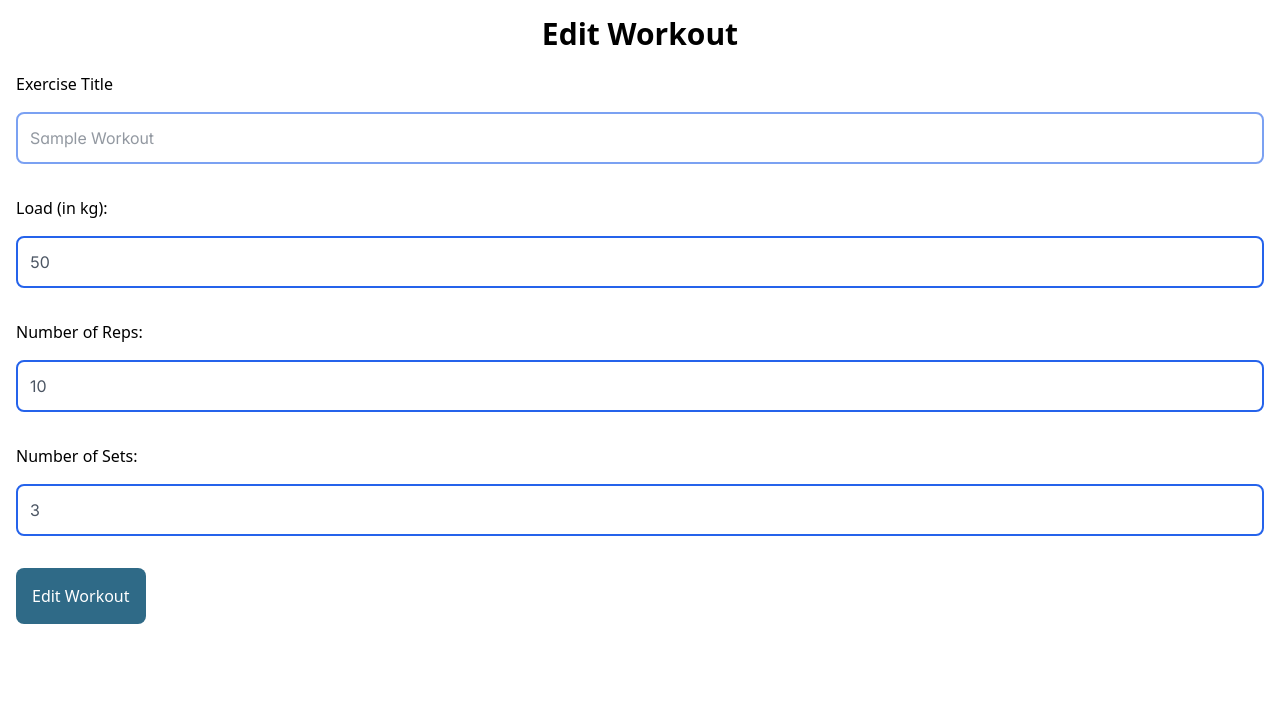
Scenario: EditWorkout Component › should show an error message when not logged in
The image size is (1280, 720).
Replace the text in the 1st number field named "load" with "60" at (640, 262), box [16,236,1264,288]
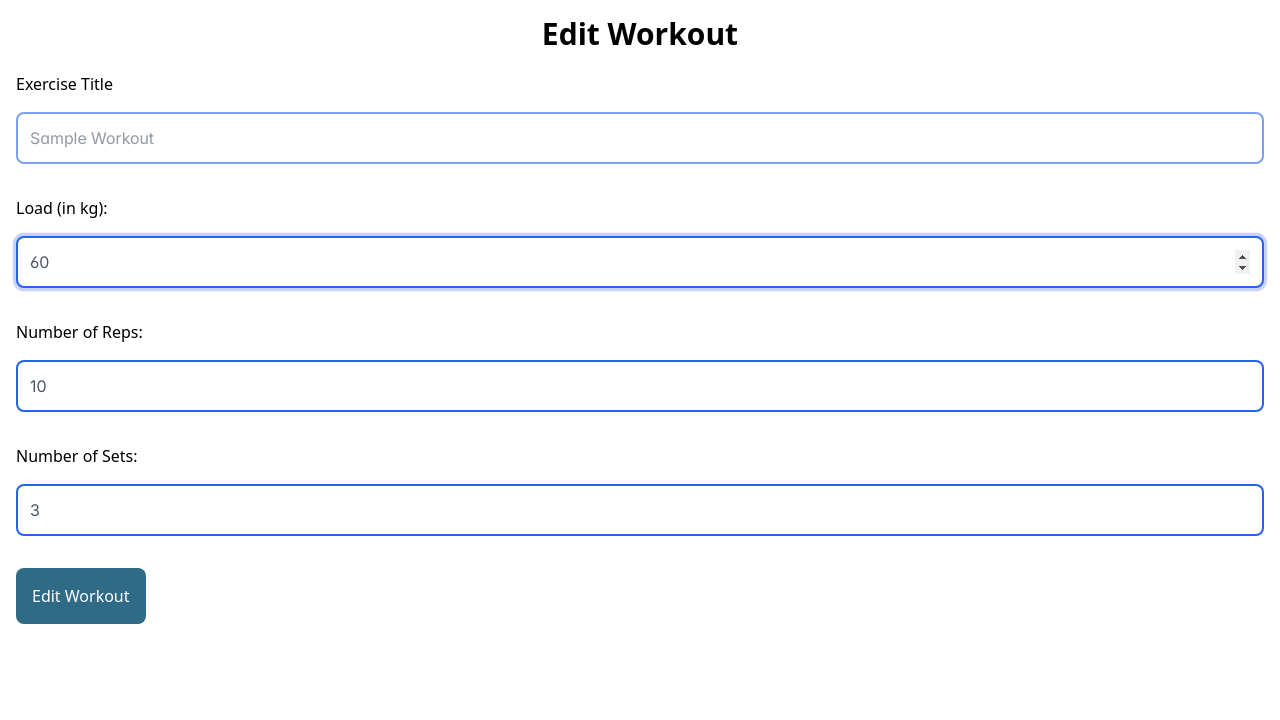
Replace the text in the 2nd number field named "reps" with "12" at (640, 386), box [16,360,1264,412]
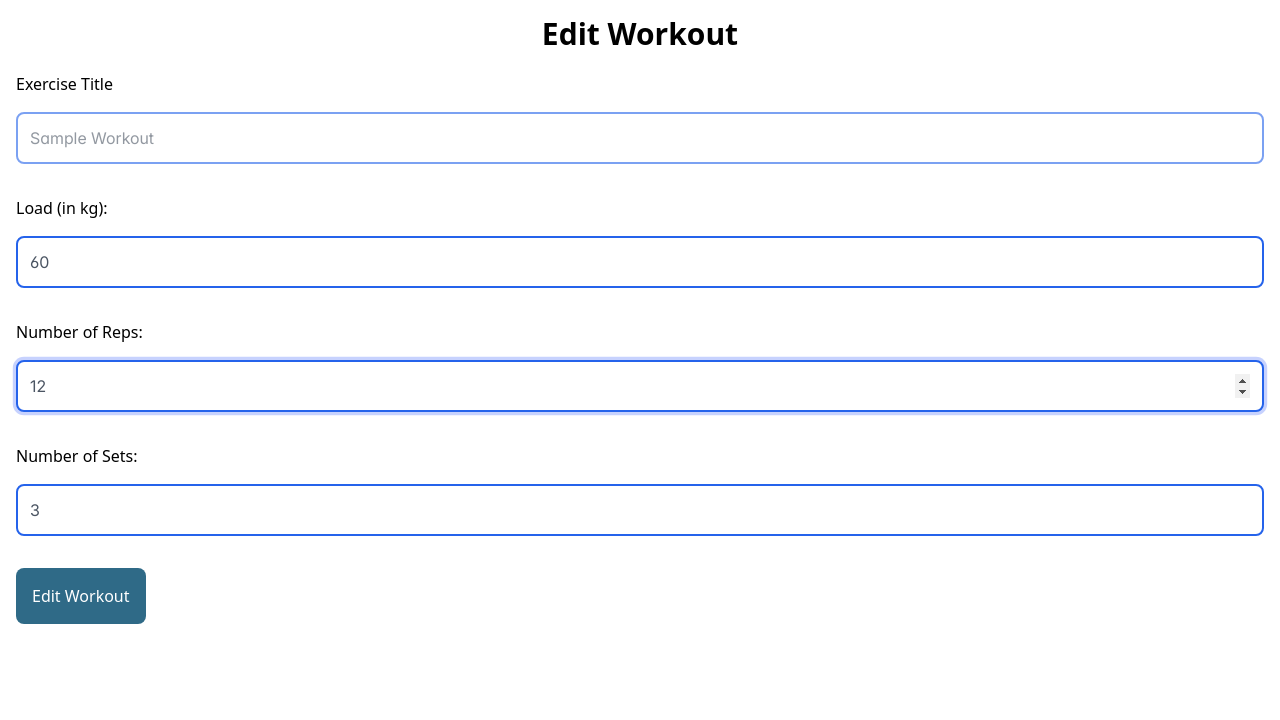
Replace the text in the 3rd number field named "sets" with "4" at (640, 510), box [16,484,1264,536]
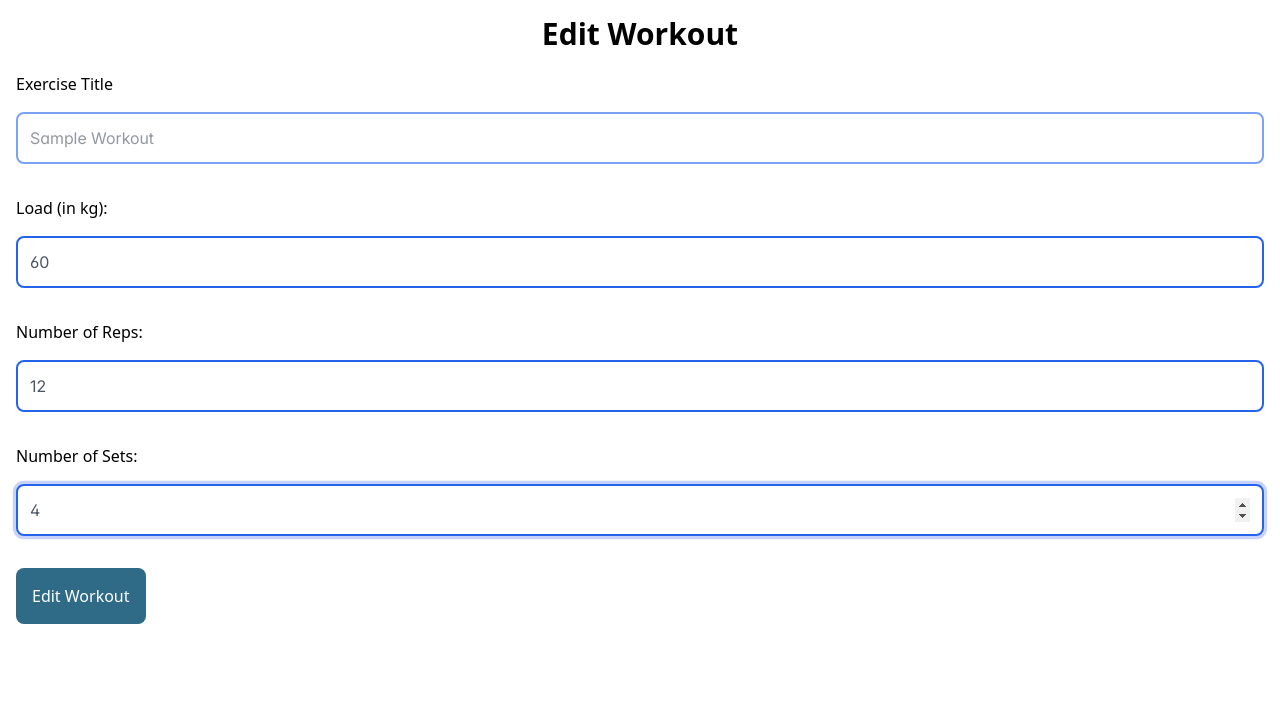
Click the button with test id "submit" at (81, 596), box [16,568,146,624]
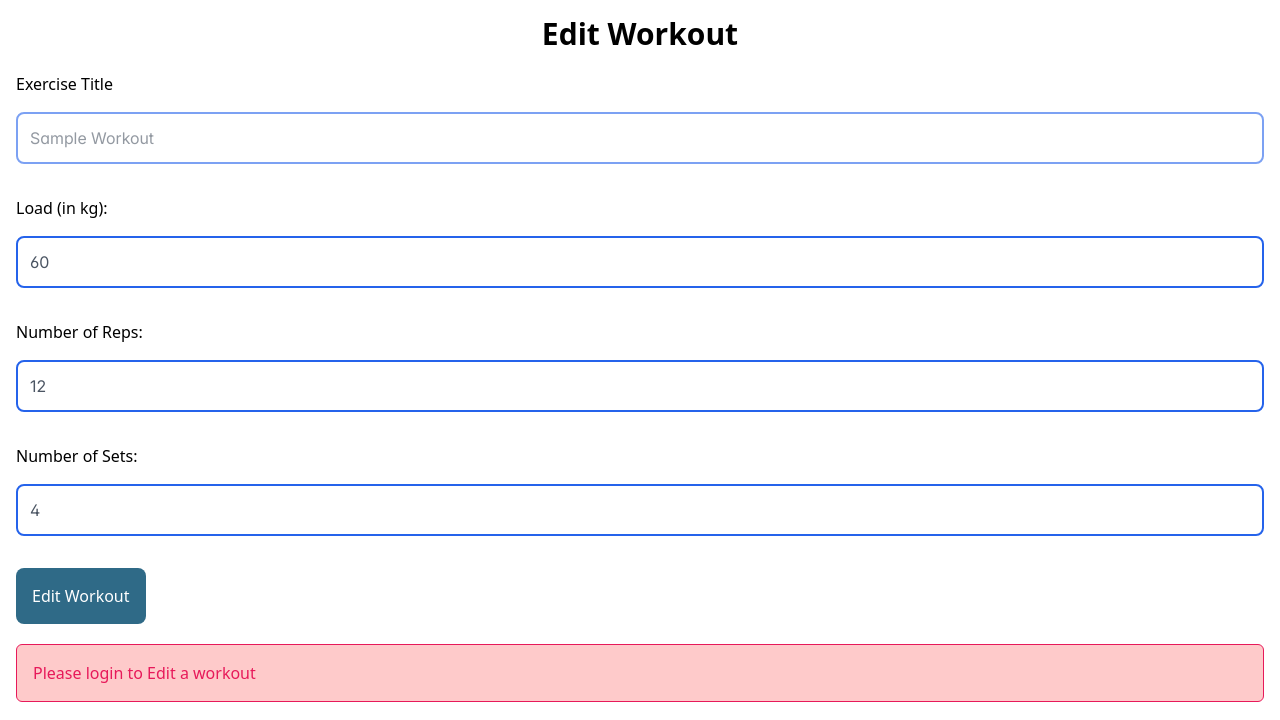
Expected: the text "Please login to Edit a workout" is shown, [16,644,1264,702]
